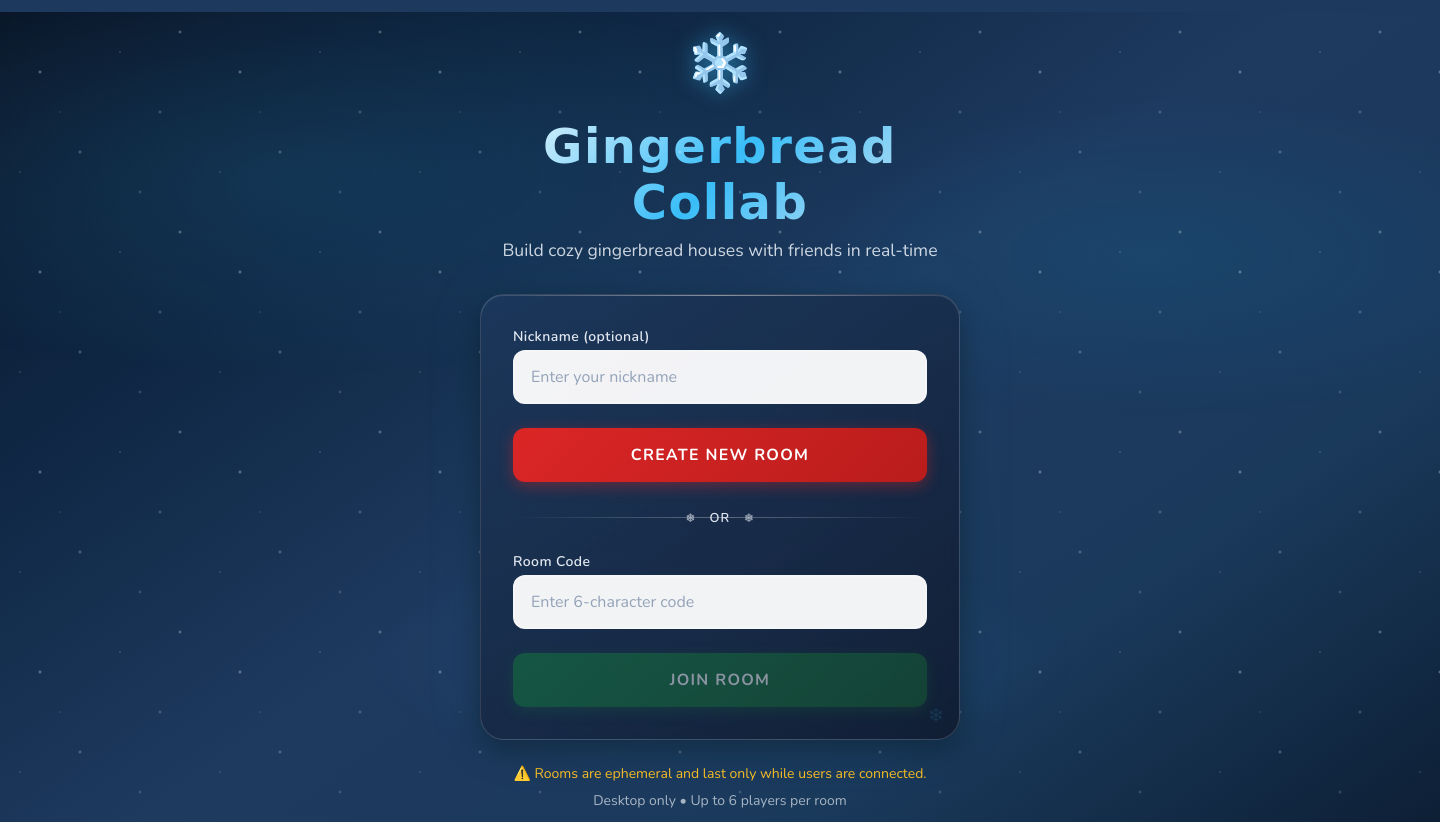
LandingPage › announces backend connection failures while creating a room
The width and height of the screenshot is (1440, 822).
Click the button "Create New Room" at (720, 454), box [513,428,927,482]
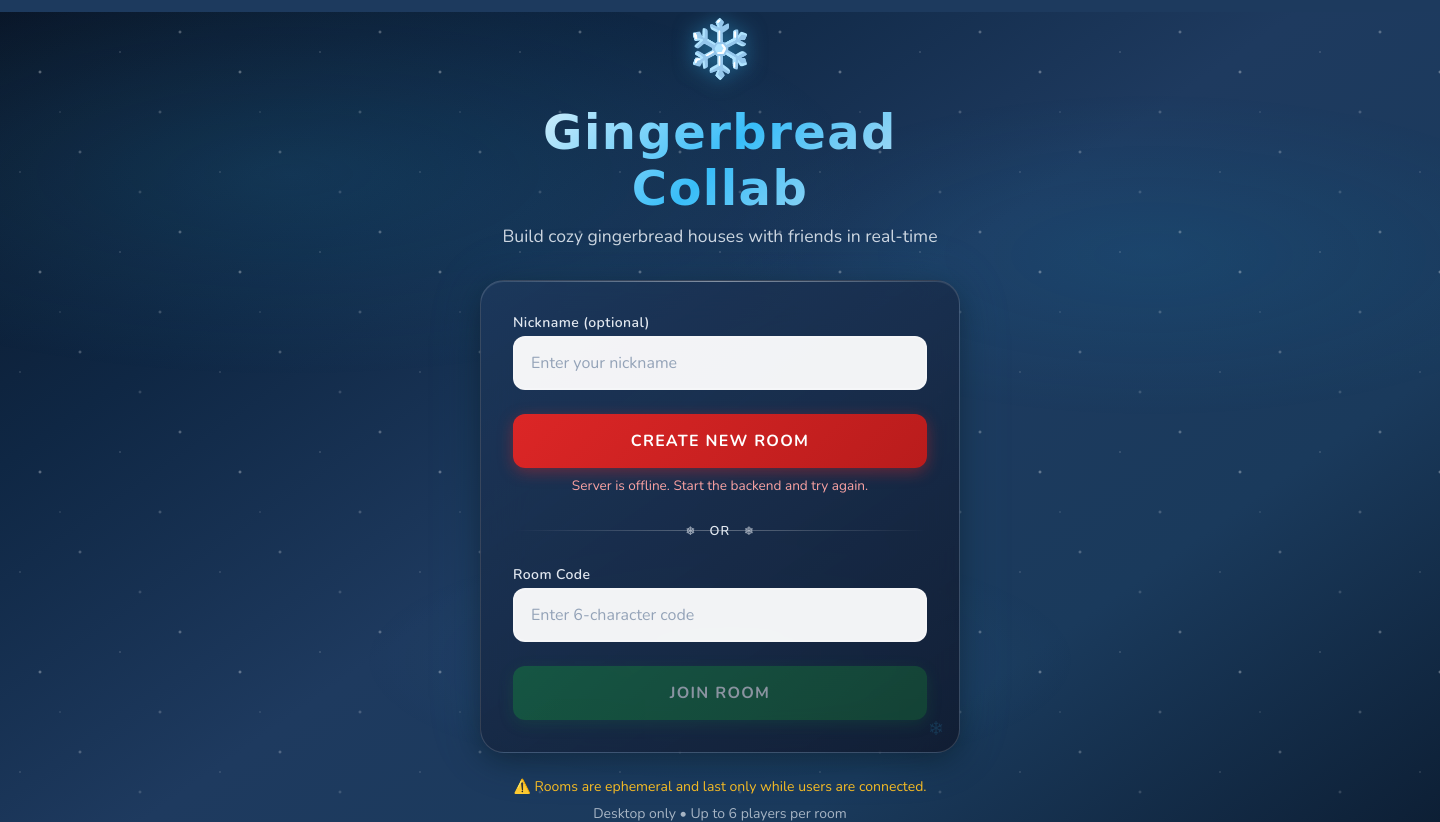
Expected: the button "Create New Room" is enabled, [513,414,927,468]
Expected: the message reads "Server is offline. Start the backend and try again.", [572,476,868,495]
